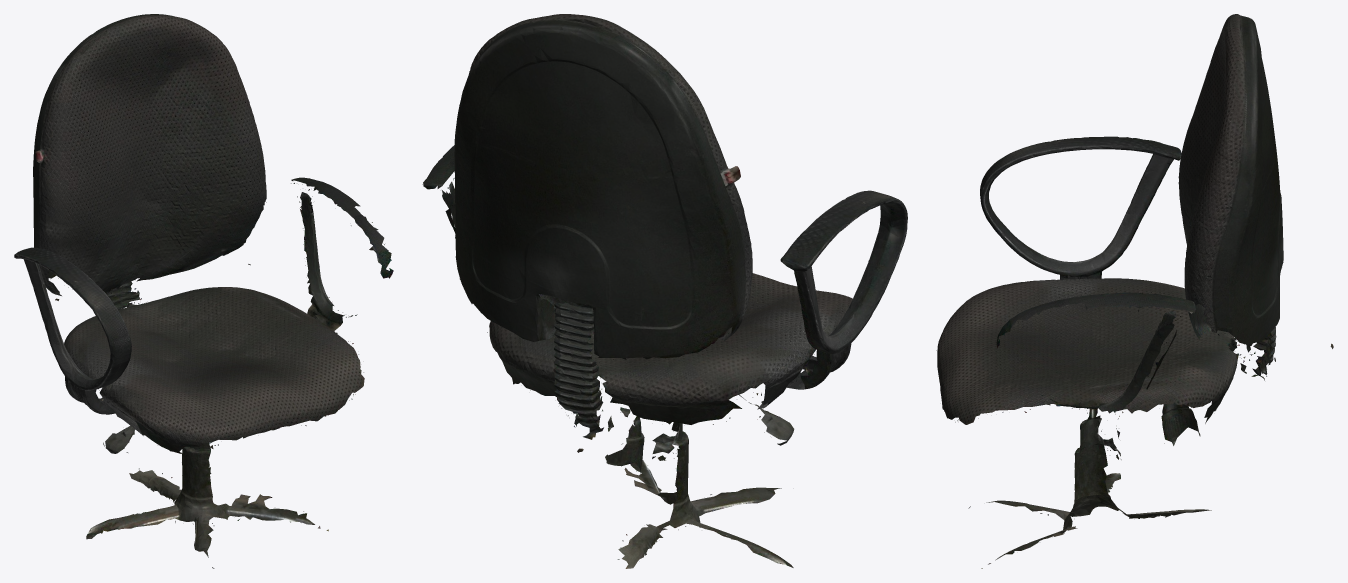
Rendered from dead_man_chair.glb.
The picture shows the model from 3 angles, left to right: view 1: azimuth 30°, elevation 25°; view 2: azimuth 150°, elevation 25°; view 3: azimuth 270°, elevation 25°; orthographic projection. The views are drawn at different scales.
Visible parts, largest first — view 1: 12345.001; view 2: 12345.001; view 3: 12345.001.
Part boxes in pixels (x1=…): 12345.001: x1=14, y1=14, x2=393, y2=568; 12345.001: x1=422, y1=14, x2=907, y2=568; 12345.001: x1=936, y1=14, x2=1333, y2=568.
Bounding box in the file's own units: 0.63 × 0.8918 × 0.6337.
Materials: 1 (1 with a texture image).
